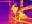Hotspot: (13, 8, 31, 23), (11, 5, 18, 14)
